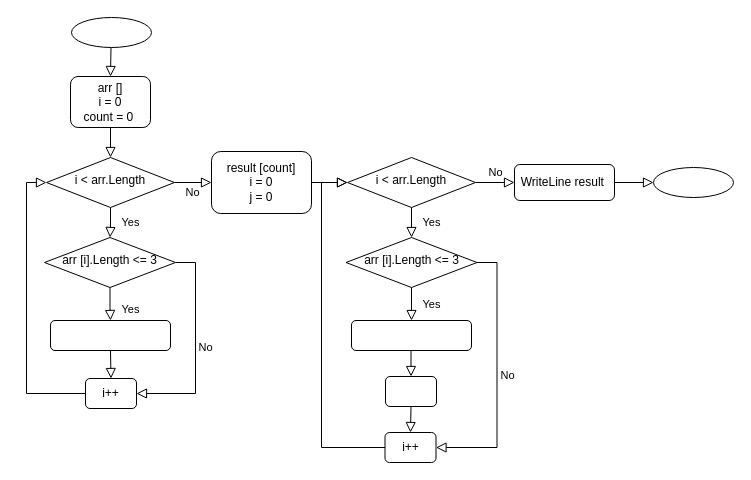
Image size: 751x480. Some labels were removed from this diagram. Each missing label, with the centre of its shape:
"count ++" goes at [110,335].
"end" goes at [693,182].
"j++" goes at [410,391].
"result [j] += arr [i]" goes at [411,335].
"start" goes at [111,32].
